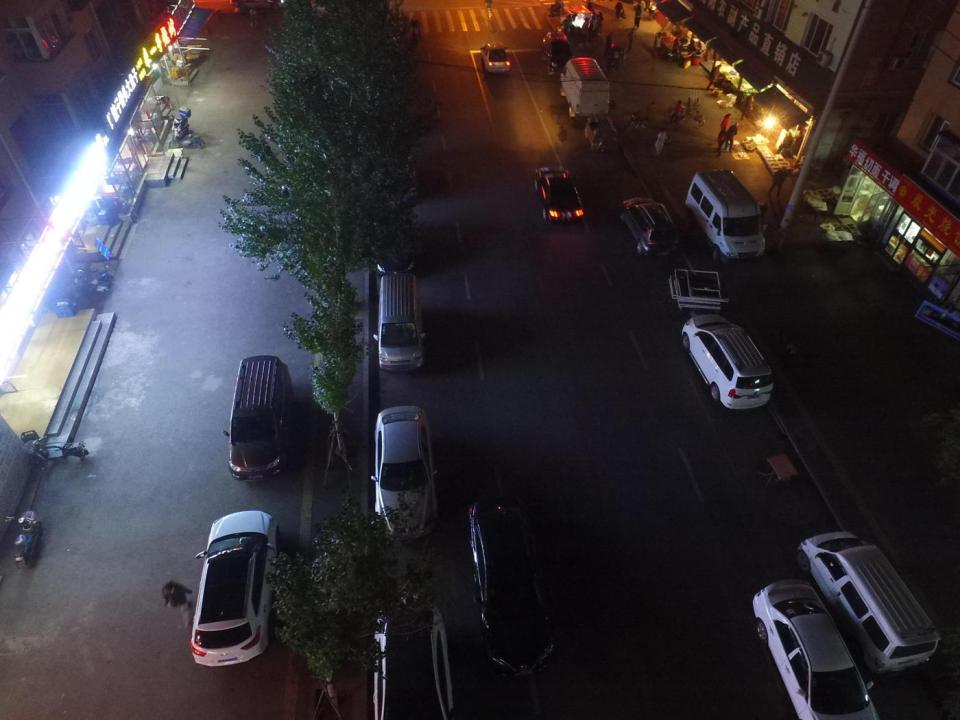car: (752, 578, 880, 720), (468, 493, 554, 678), (189, 509, 280, 668), (372, 594, 453, 720), (681, 314, 774, 412), (374, 404, 438, 542), (619, 195, 681, 260), (534, 165, 585, 225), (369, 210, 415, 276), (480, 40, 511, 74)
van: (796, 531, 942, 677), (228, 354, 290, 483), (684, 170, 766, 266), (376, 272, 424, 373), (560, 56, 610, 118), (540, 30, 573, 73)
